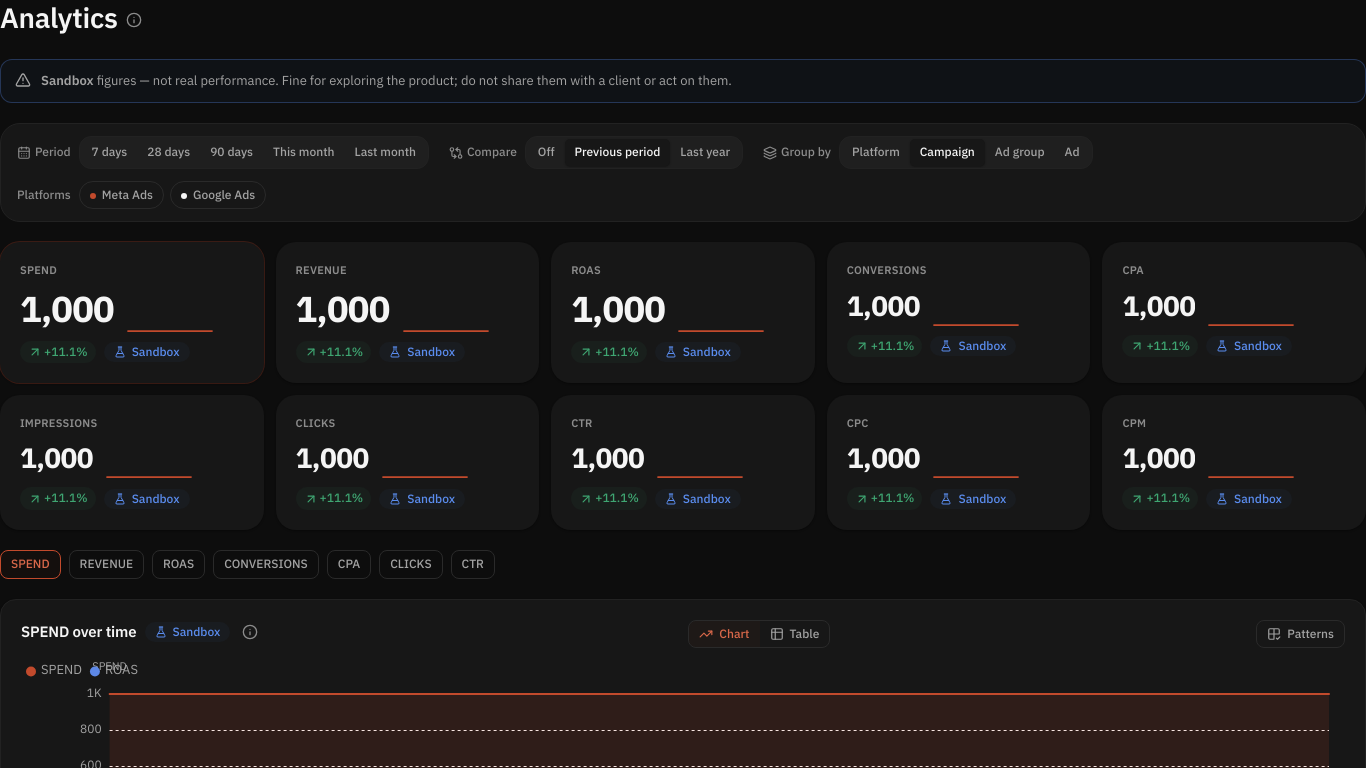
Scenario: AnalyticsPage › plots whichever figure the reader selects
Expected: the element named "Key figures" is shown, [0,242,1365,530]
Click the button "CLICKS 1,000 +11.1% Sandbox": (407, 462) [276,395,539,530]
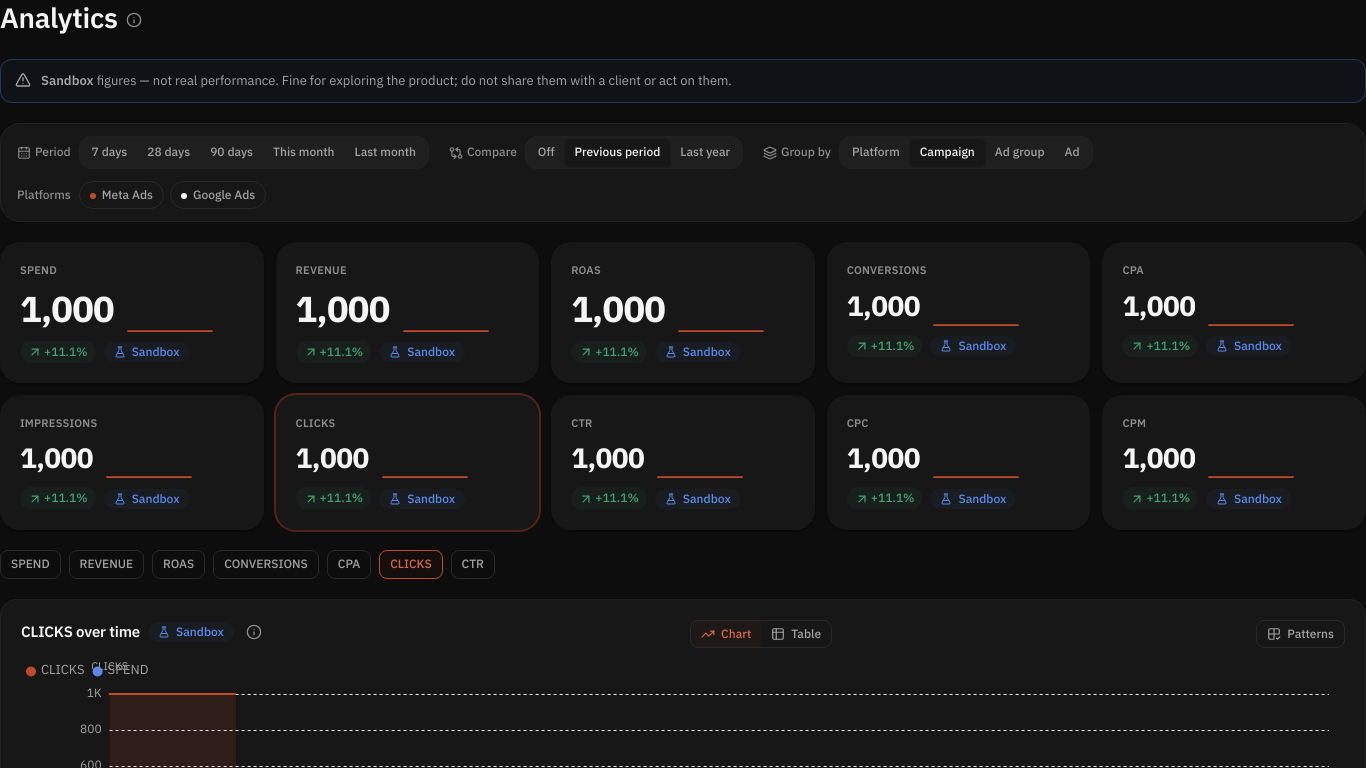
Now the heading "CLICKS over time" is shown, box [21,620,140,644]
